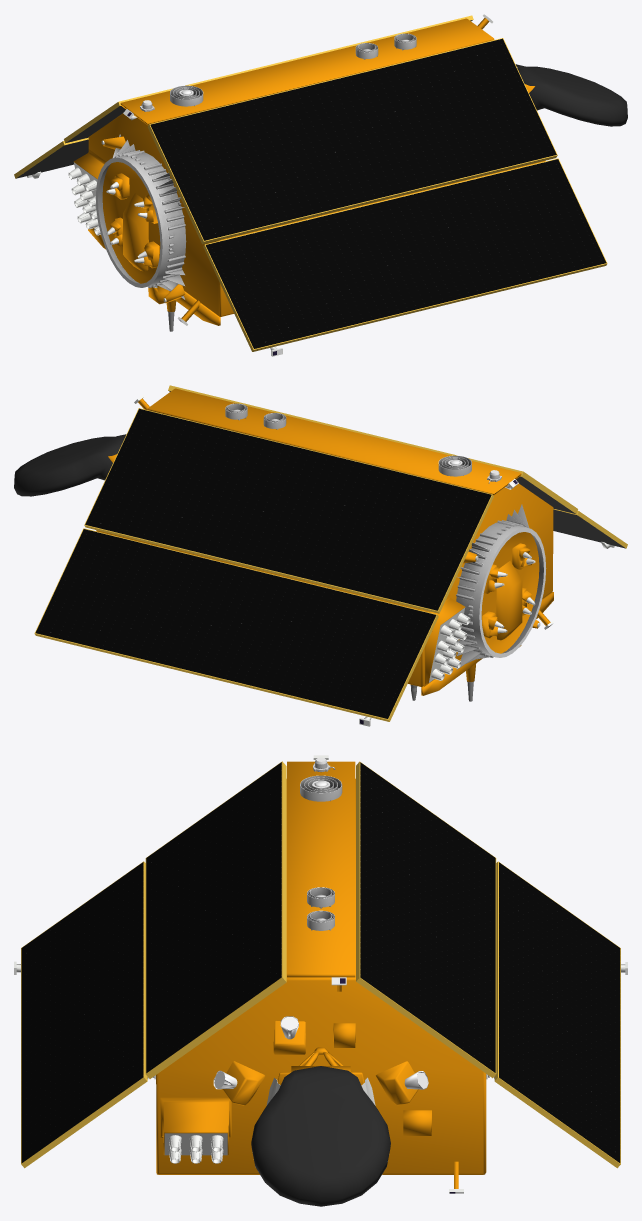
File: sentinel6.glb
The picture shows the model from 3 angles, top to bottom: view 1: azimuth 30°, elevation 25°; view 2: azimuth 150°, elevation 25°; view 3: azimuth 270°, elevation 25°; orthographic projection. The views are drawn at different scales.
Parts seen in each view (by area): view 1: array, BUS, GNSS_POD_RO_SPA; view 2: array, BUS, GNSS_POD_RO_SPA; view 3: array, BUS, GNSS_POD_RO_SPA.
Part boxes in pixels (left/top/right/bottom): array: left=14, top=15, right=607, bottom=351; BUS: left=16, top=14, right=627, bottom=356; GNSS_POD_RO_SPA: left=95, top=33, right=416, bottom=299; array: left=34, top=385, right=627, bottom=721; BUS: left=14, top=388, right=625, bottom=726; GNSS_POD_RO_SPA: left=225, top=403, right=546, bottom=669; array: left=21, top=761, right=620, bottom=1168; BUS: left=14, top=755, right=627, bottom=1206; GNSS_POD_RO_SPA: left=300, top=757, right=342, bottom=930.
Size of the model in its own units: 5.13 by 2.32 by 4.37.
8 materials, 8 textured.
